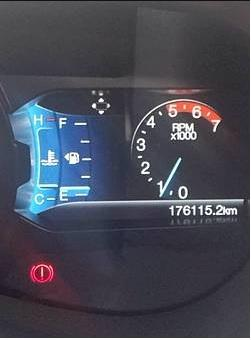odometer: (164, 200, 240, 221)
